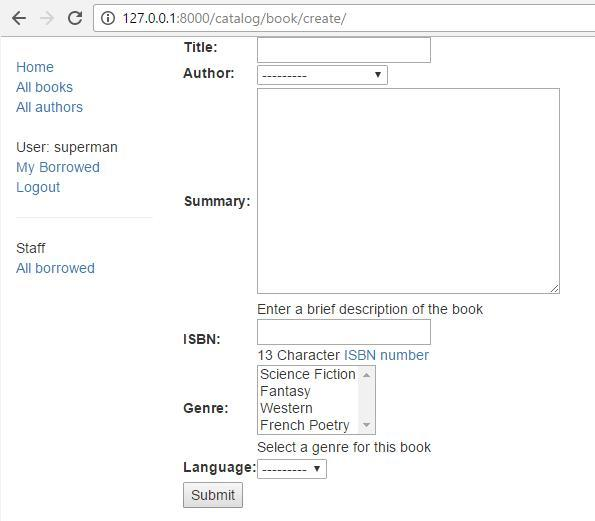button: (182, 484, 246, 508)
dropdown: (258, 65, 388, 86), (259, 459, 327, 479)
icon: (66, 8, 87, 31), (35, 9, 58, 29), (98, 10, 118, 30), (11, 11, 29, 28)
input: (259, 320, 430, 347), (258, 39, 431, 65)
label: (182, 190, 257, 213), (184, 458, 257, 478), (181, 63, 241, 87), (186, 331, 229, 350), (186, 402, 234, 418), (184, 38, 222, 58)
